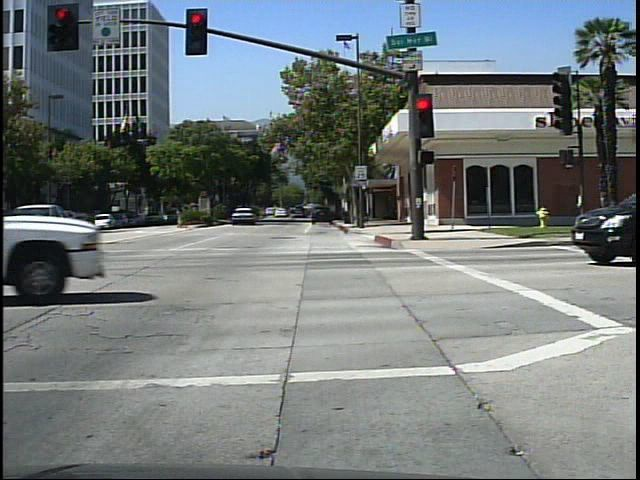person: (286, 203, 300, 221)
